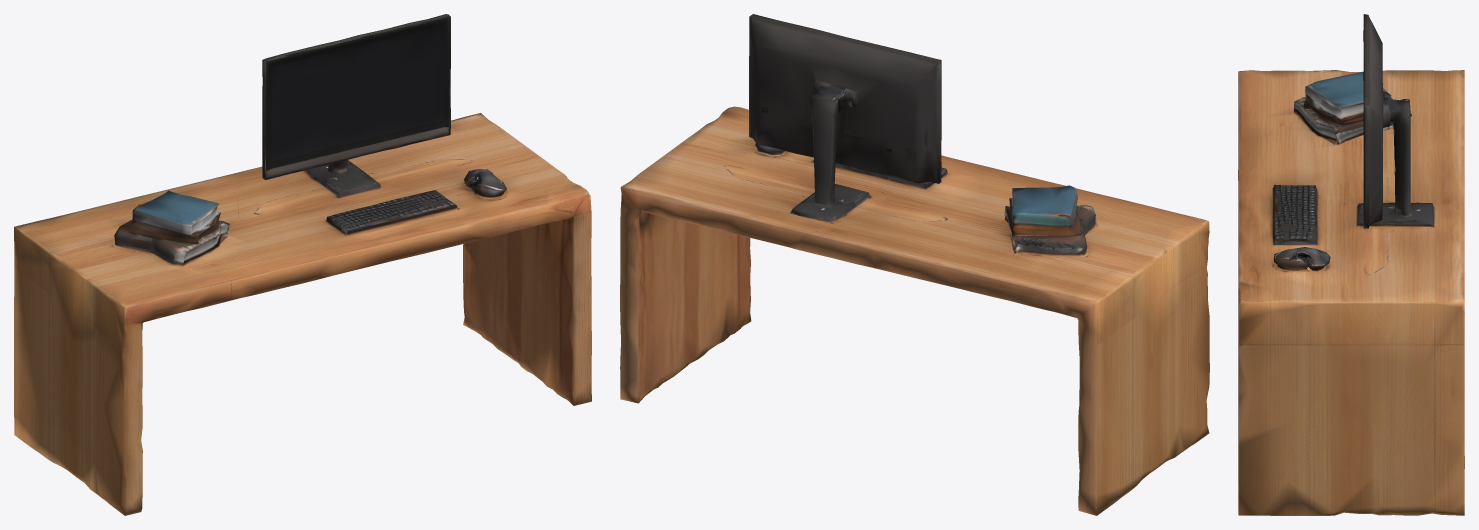
The model's file is Một_bàn_làm_việ_1021092636_texture.fbx.
3 renders of one model, left to right at view 1: azimuth 30°, elevation 25°; view 2: azimuth 150°, elevation 25°; view 3: azimuth 270°, elevation 25°, orthographic. The views are drawn at different scales.
Visible parts, largest first — view 1: input; view 2: input; view 3: input.
Boxes of the visible parts, x1,y1,x2,y2 form: input: (14, 14, 591, 515); input: (620, 14, 1209, 515); input: (1238, 14, 1464, 515).
Bounding box in the file's own units: 191 × 142 × 78.62.
Materials: 1 (1 with a texture image).
